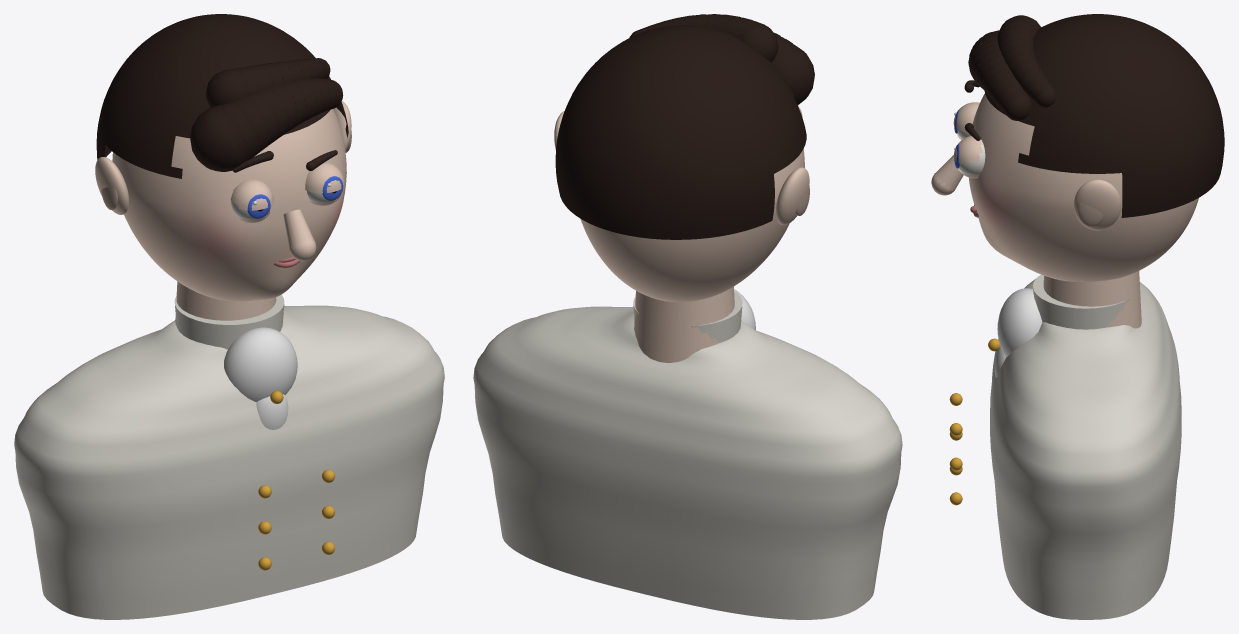
Rendered from magnate_orpheus.fbx.
3 renders of one model, left to right at view 1: azimuth 30°, elevation 25°; view 2: azimuth 150°, elevation 25°; view 3: azimuth 270°, elevation 25°, orthographic. The views are drawn at different scales.
Visible parts, largest first — view 1: magnate_orpheus, magnate_orpheus__head; view 2: magnate_orpheus, magnate_orpheus__head; view 3: magnate_orpheus, magnate_orpheus__head.
Boxes of the visible parts, x1,y1,x2,y2 form: magnate_orpheus: (14, 281, 444, 619); magnate_orpheus__head: (95, 14, 351, 301); magnate_orpheus: (473, 286, 902, 619); magnate_orpheus__head: (554, 14, 814, 302); magnate_orpheus: (949, 271, 1181, 619); magnate_orpheus__head: (931, 14, 1224, 281).
Size of the model in its own units: 1.53 by 1.92 by 0.9958.
